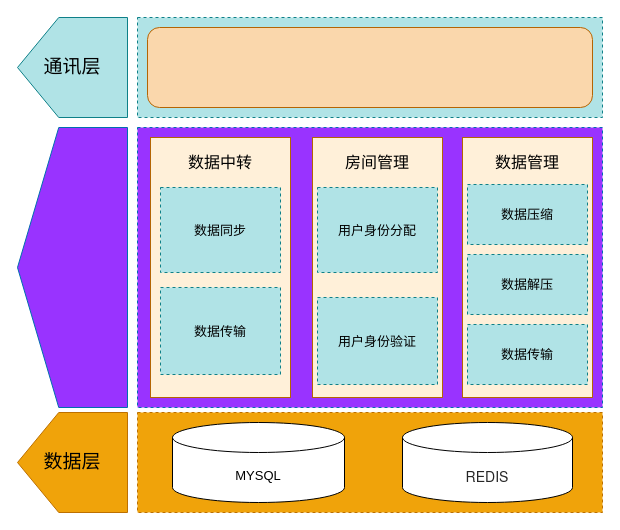
Some shapes in this 620 by 530 pixel diagram are drawn without their labels. Here are the shapes that lost their labels. From the top down, the box of each, then its label:
(146, 26, 592, 108): WebSocket
(16, 126, 128, 408): 服务层
